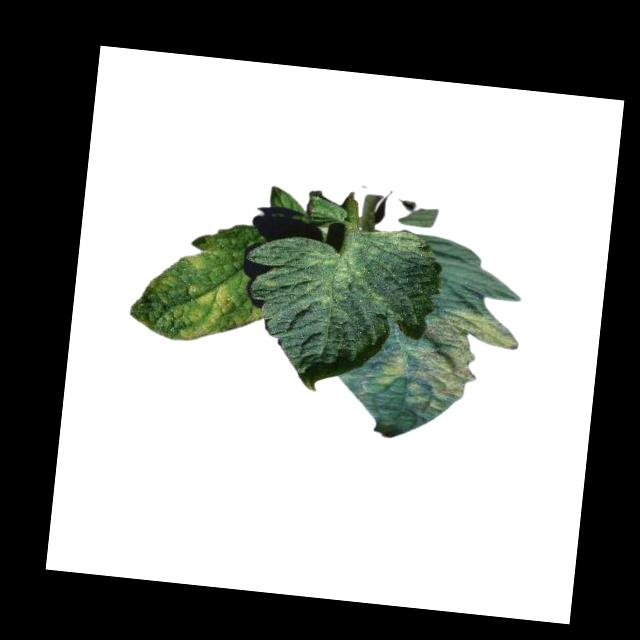Leaf_Mold: (369, 300, 521, 418), (143, 249, 263, 346)
